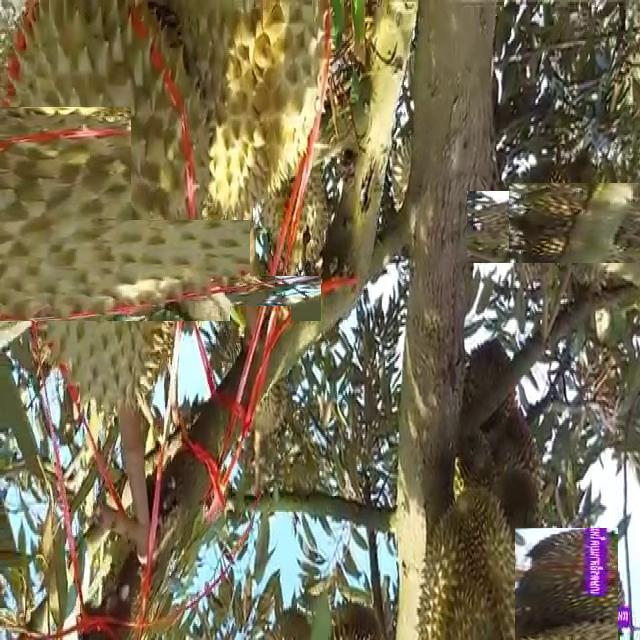durian: (0, 55, 269, 373), (131, 2, 325, 220), (413, 479, 536, 640), (250, 66, 329, 276), (525, 166, 640, 281), (510, 532, 622, 640), (484, 174, 589, 280), (230, 306, 291, 458)
